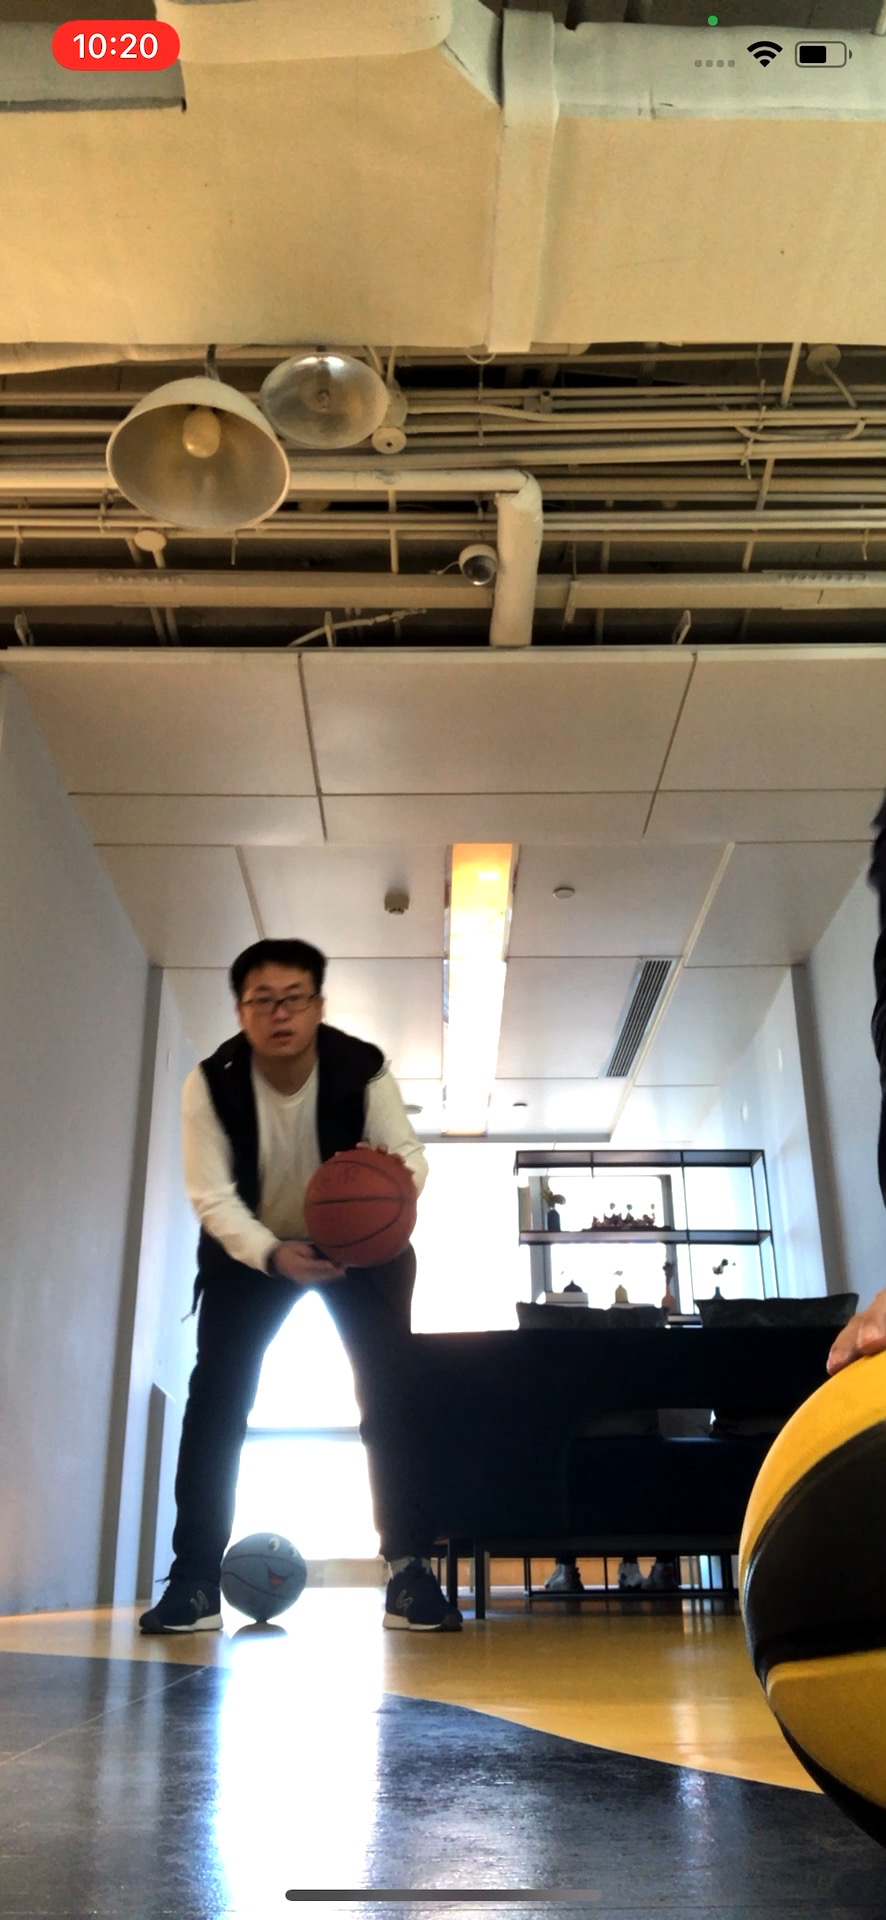ball: (735, 1349, 886, 1849), (303, 1142, 419, 1272), (221, 1529, 303, 1631)
